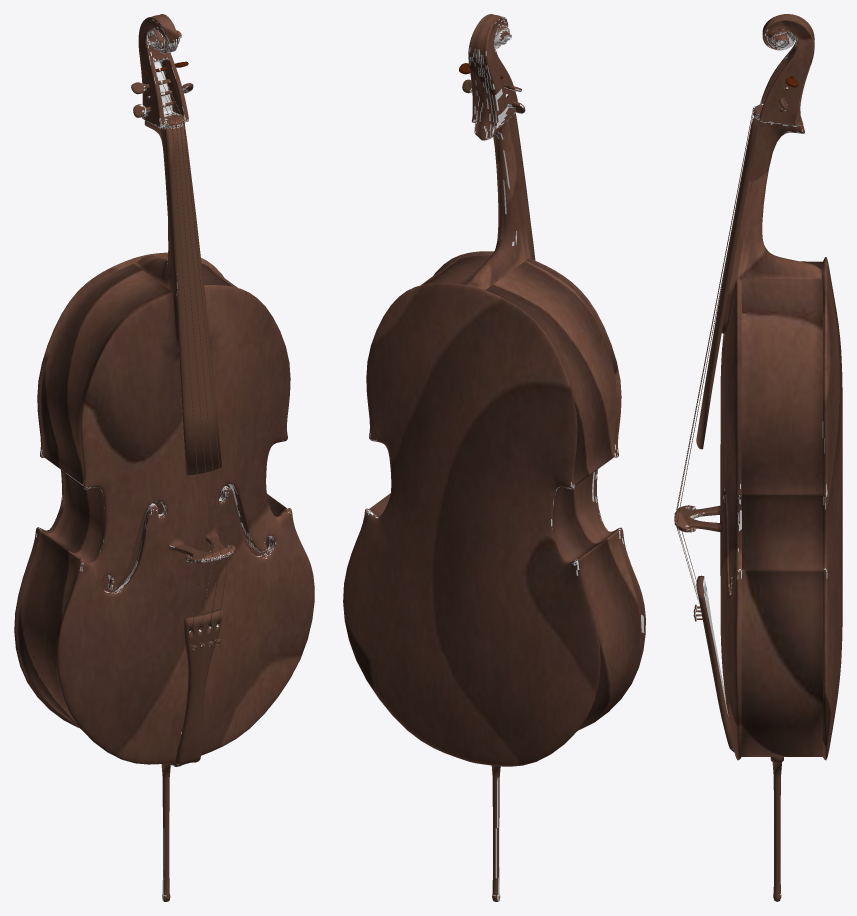
The model's file is cello3.glb.
3 views of the same model, side by side, from view 1: azimuth 30°, elevation 25°; view 2: azimuth 150°, elevation 25°; view 3: azimuth 270°, elevation 25° (orthographic).
Parts seen in each view (by area): view 1: cello_black_cello_black; view 2: cello_black_cello_black; view 3: cello_black_cello_black.
Boxes of the visible parts, bbox=[...] form: cello_black_cello_black: bbox=[14, 14, 314, 901]; cello_black_cello_black: bbox=[343, 14, 645, 901]; cello_black_cello_black: bbox=[674, 14, 842, 901].
Size of the model in its own units: 1.41 by 4.62 by 0.7972.
5 materials, 2 textured.
